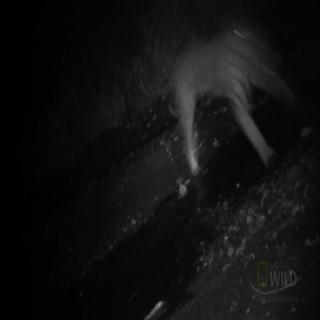Tiger: (156, 23, 298, 174)
